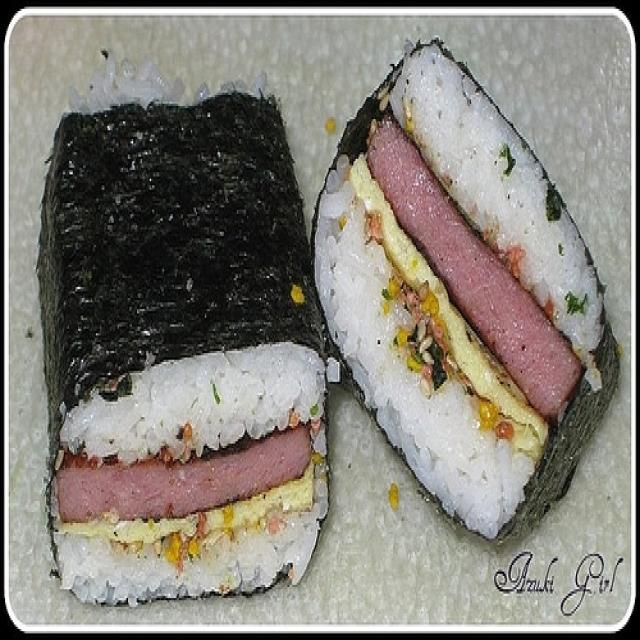寿司卷物: (22, 33, 613, 616)
